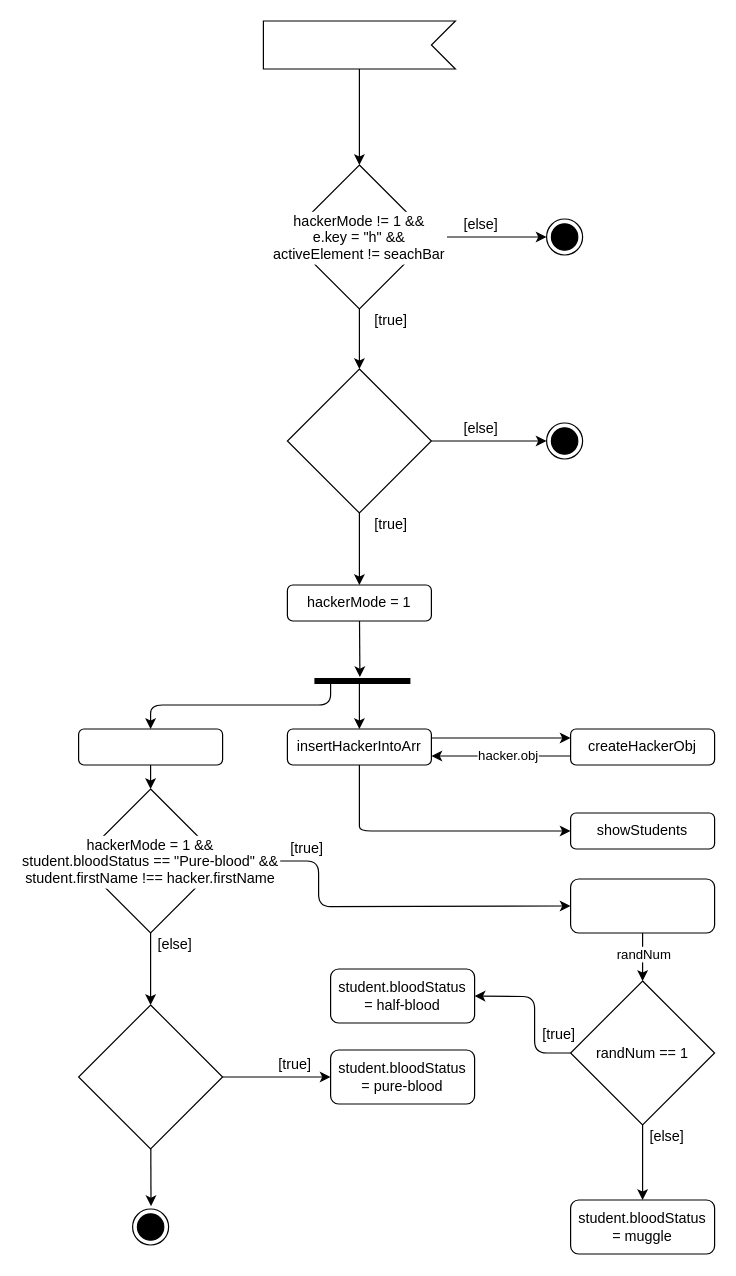
The diagram is 736 pixels wide and 1276 high, and some of its shapes have lost their labels. The shapes that lost their labels are listed below. From the top down, each one's centre as x and y in pixels, then its label:
pixel 358 44: keyDown
pixel 358 440: hackerMode != 1
pixel 150 746: hackBloodStatus
pixel 642 905: randomize number from 1 to 2
pixel 150 1076: hackerMode = 1 && student.bloodStatus !== "Pure-blood"
